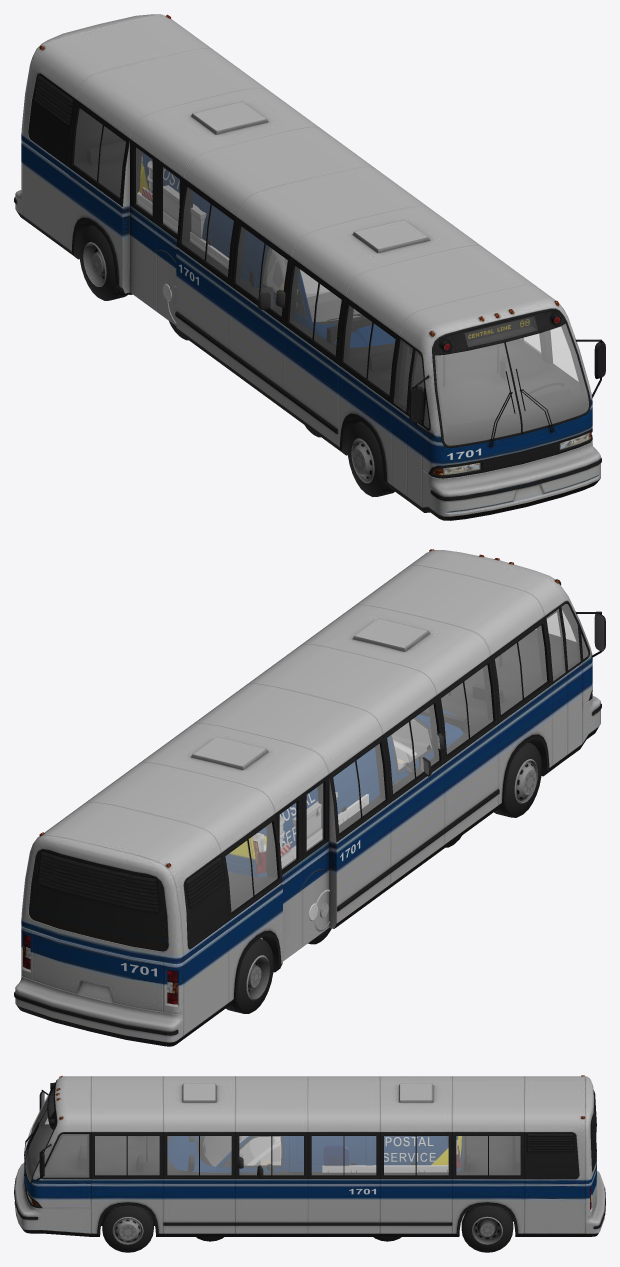
The model's file is vehicles.glb.
The picture shows the model from 3 angles, top to bottom: view 1: azimuth 30°, elevation 25°; view 2: azimuth 150°, elevation 25°; view 3: azimuth 270°, elevation 25°; orthographic projection. The views are drawn at different scales.
Parts seen in each view (by area): view 1: citybus, postvan, rdservtruck; view 2: citybus, postvan, rdservtruck; view 3: citybus, postvan, rdservtruck.
Boxes of the visible parts, box(x1,y1,x2,y2) form: citybus: box(14, 14, 605, 520); postvan: box(139, 153, 395, 347); rdservtruck: box(137, 159, 320, 437); citybus: box(14, 549, 605, 1046); postvan: box(225, 707, 463, 939); rdservtruck: box(279, 740, 461, 944); citybus: box(14, 1075, 605, 1252); postvan: box(167, 1136, 465, 1215); rdservtruck: box(196, 1137, 463, 1241).
Bounding box in the file's own units: 2.65 × 2.63 × 10.4.
Materials: 23 (15 with a texture image).
